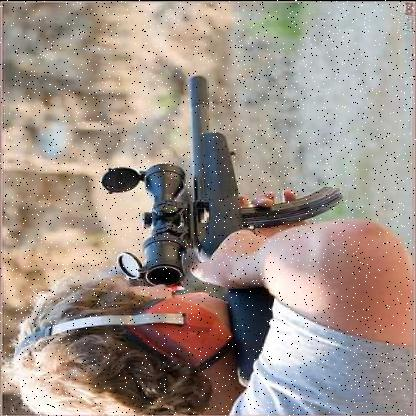rifle: (87, 58, 349, 390)
